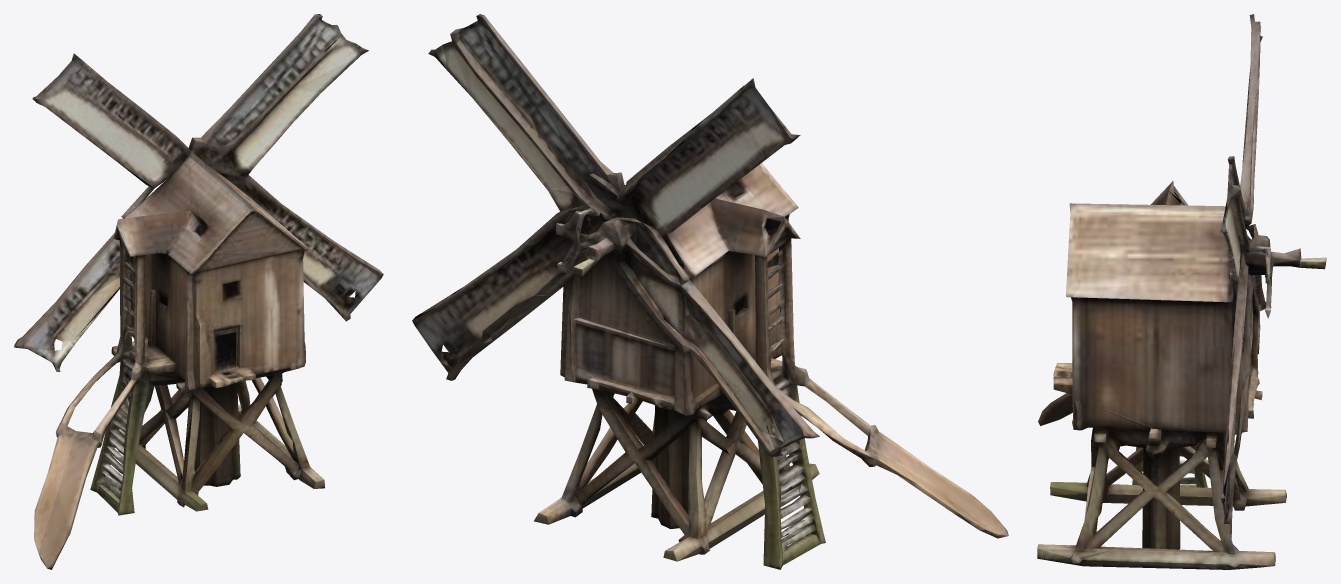
The model's file is ga3_windmill_lod1.glb.
The picture shows the model from 3 angles, left to right: view 1: azimuth 30°, elevation 25°; view 2: azimuth 150°, elevation 25°; view 3: azimuth 270°, elevation 25°; orthographic projection. The views are drawn at different scales.
Visible parts, largest first — view 1: ga3_windmill_lod1; view 2: ga3_windmill_lod1; view 3: ga3_windmill_lod1.
Part boxes in pixels (x1,y1,x2,y2): ga3_windmill_lod1: (14,14,383,569); ga3_windmill_lod1: (412,14,1008,569); ga3_windmill_lod1: (1037,14,1326,569).
Bounding box in the file's own units: 14.42 × 14.01 × 7.67.
1 material, 1 textured.
